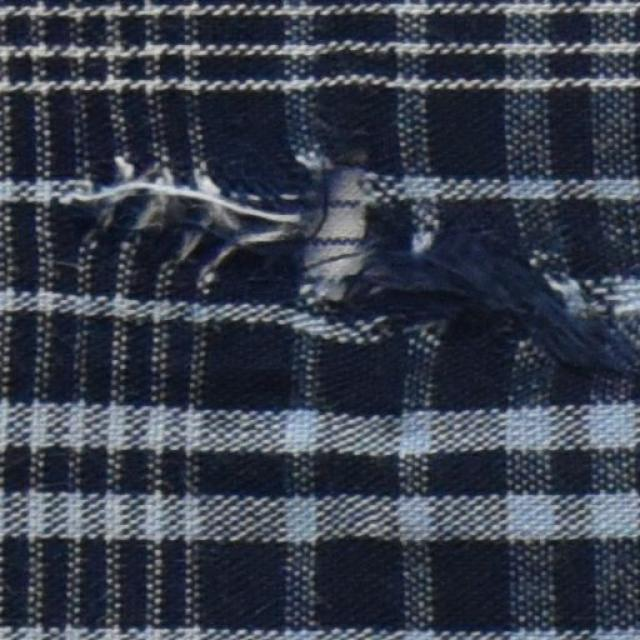Hole: (314, 158, 370, 292)
Snag: (335, 227, 639, 383), (82, 146, 332, 267)
